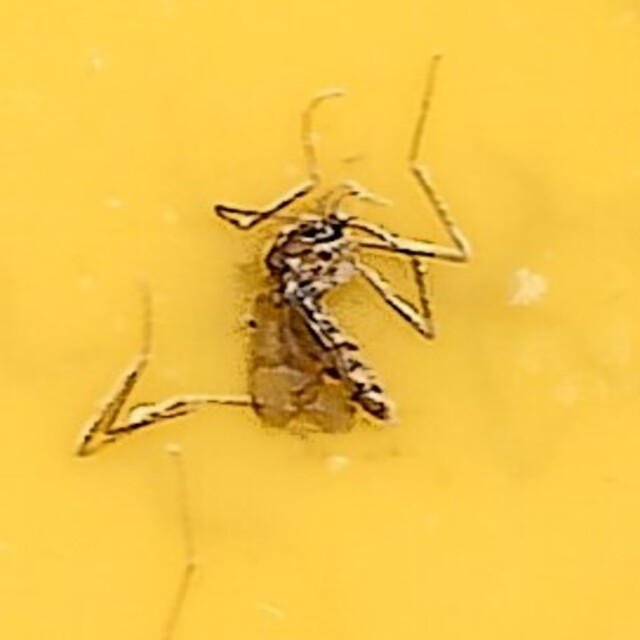Nematocera: (235, 192, 405, 448)
